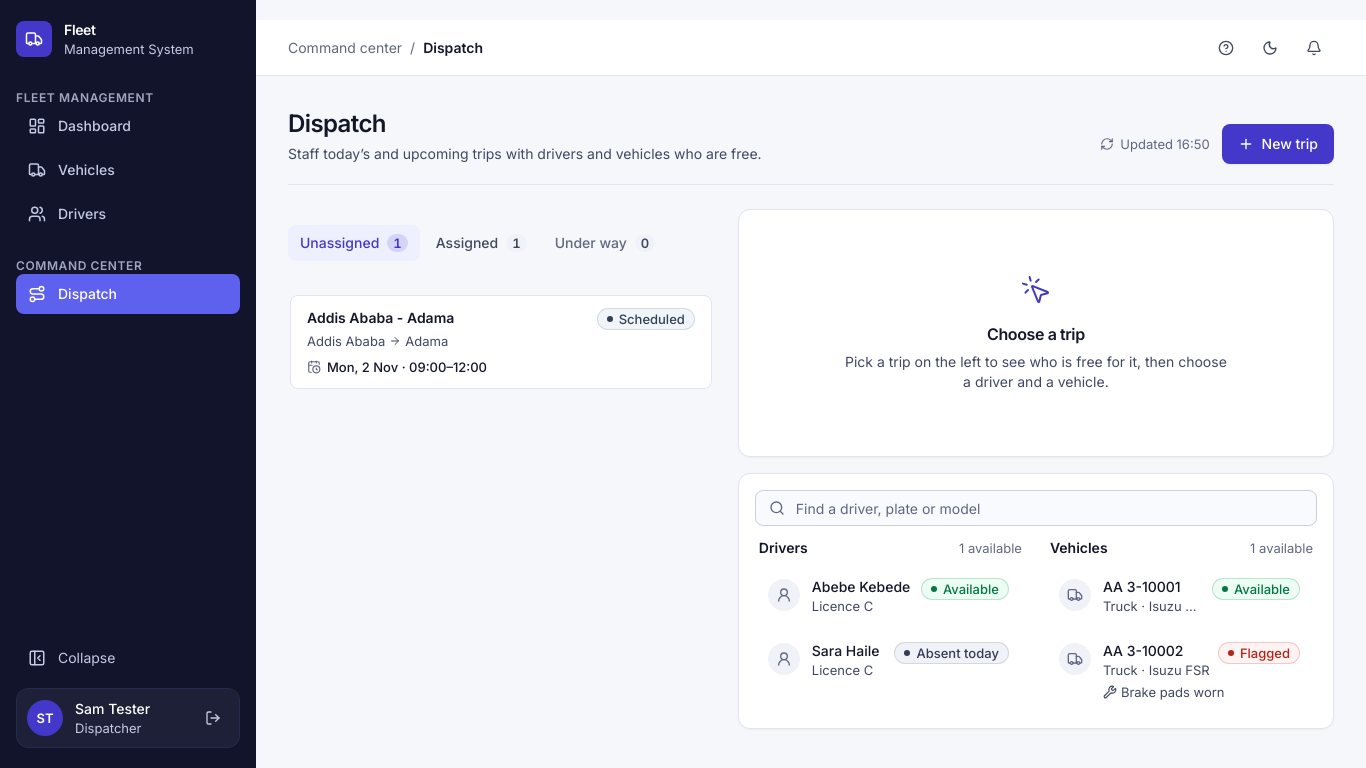
Test: Dispatcher trip console (S-07) › lists unassigned trips; choosing one asks who is free for its window and shows the card's colours
The image size is (1366, 768).
Expected: the heading "Dispatch" is shown, [288,109,386,138]
Expected: the text "Addis Ababa - Adama" is shown, [307,308,454,328]
Step 1. Click the button "Addis Ababa - Adama" → (381, 318), box [290,295,712,389]
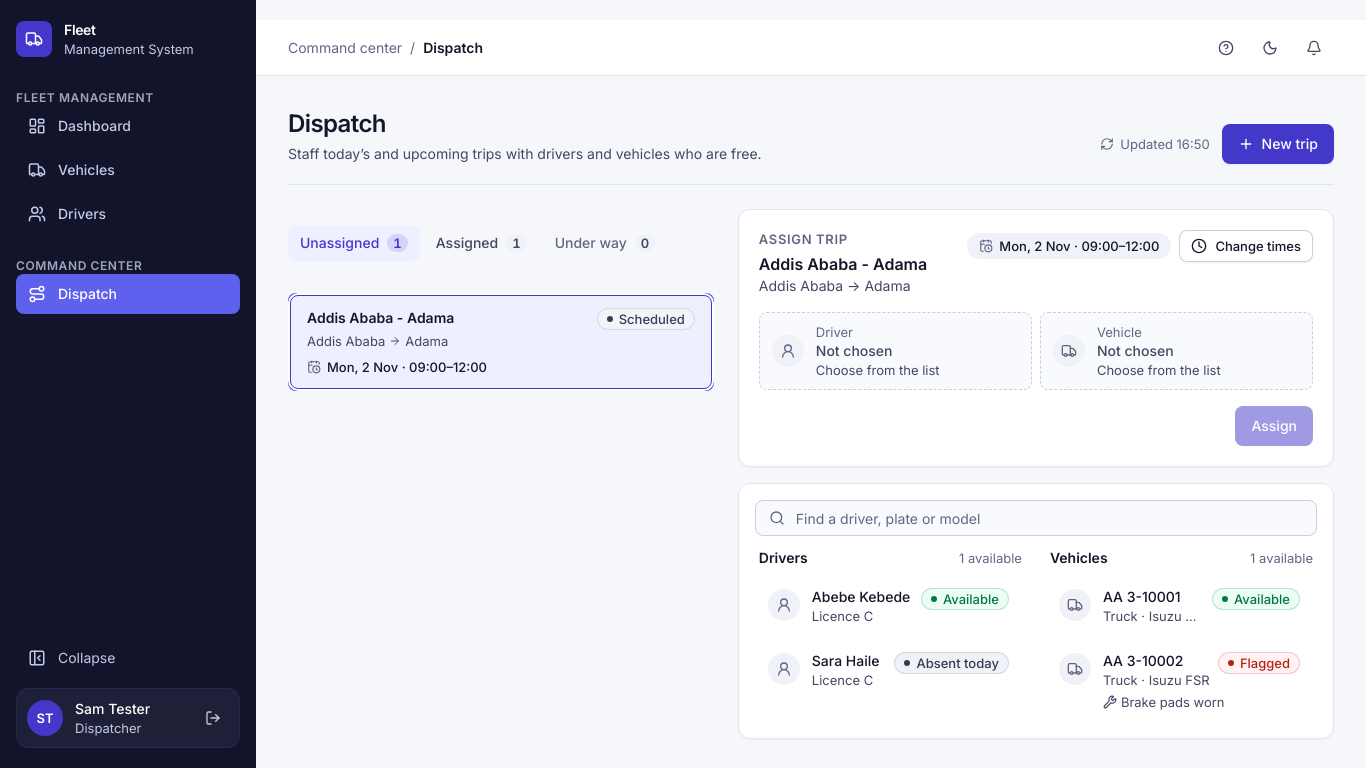
Expected: the button with aria-label "Abebe Kebede, Available" is shown, [755,576,1022,636]
Expected: the button with aria-label "AA 3-10002, Flagged" is shown, [1046,640,1313,722]
Step 2. Click the button "Assigned 1" → (481, 243), box [424,225,539,261]
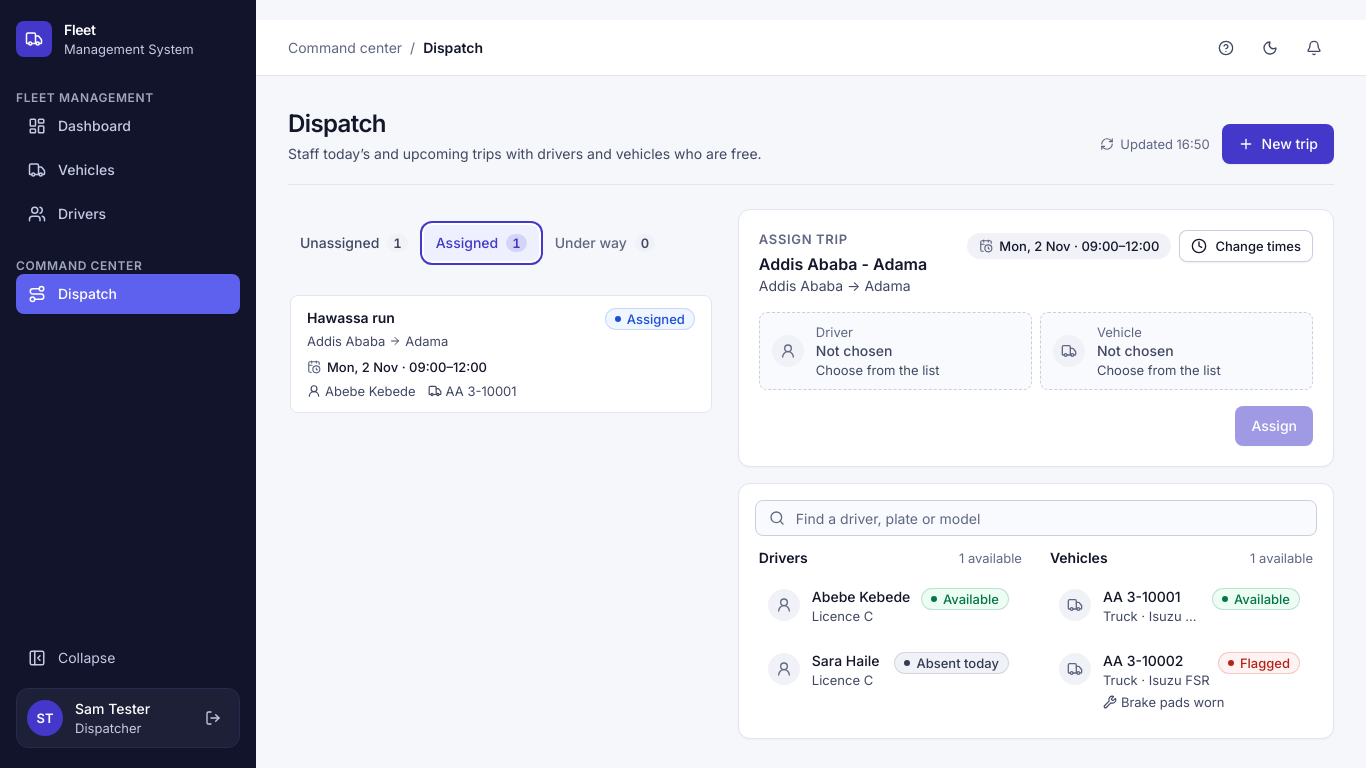
Expected: the text "Hawassa run" is shown, [307,308,395,328]
Expected: the text "Abebe Kebede" is shown, [307,382,416,400]
Expected: the text "AA 3-10001" is shown, [428,382,517,400]
